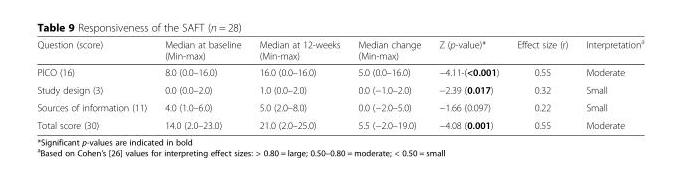table: (36, 36, 643, 130)
table column: (36, 36, 155, 130), (249, 36, 348, 130), (155, 36, 249, 130), (348, 36, 429, 130), (429, 36, 507, 130), (507, 36, 576, 130), (576, 36, 643, 130)
table column header: (36, 36, 643, 63)
table row: (36, 36, 643, 63), (36, 80, 643, 98), (36, 63, 643, 80), (36, 98, 643, 115), (36, 115, 643, 130)
